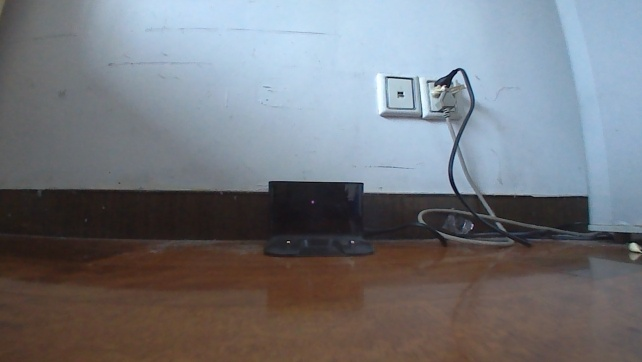charger: (254, 172, 379, 261)
wire: (368, 62, 595, 249)
